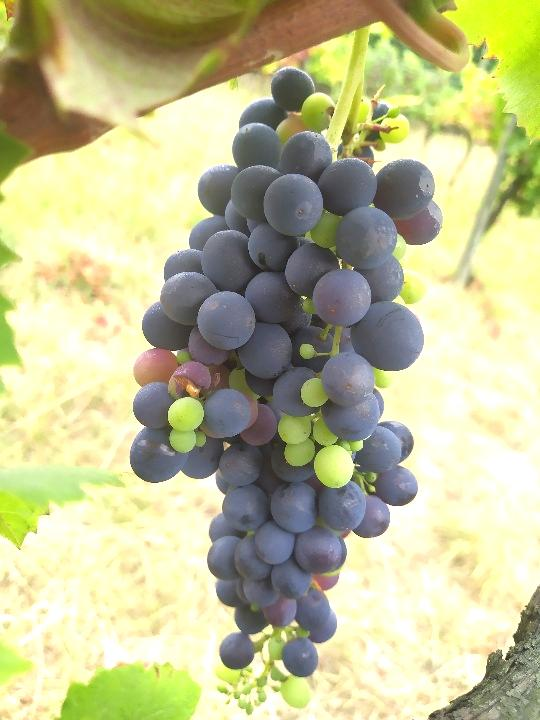grape: (129, 65, 444, 718)
